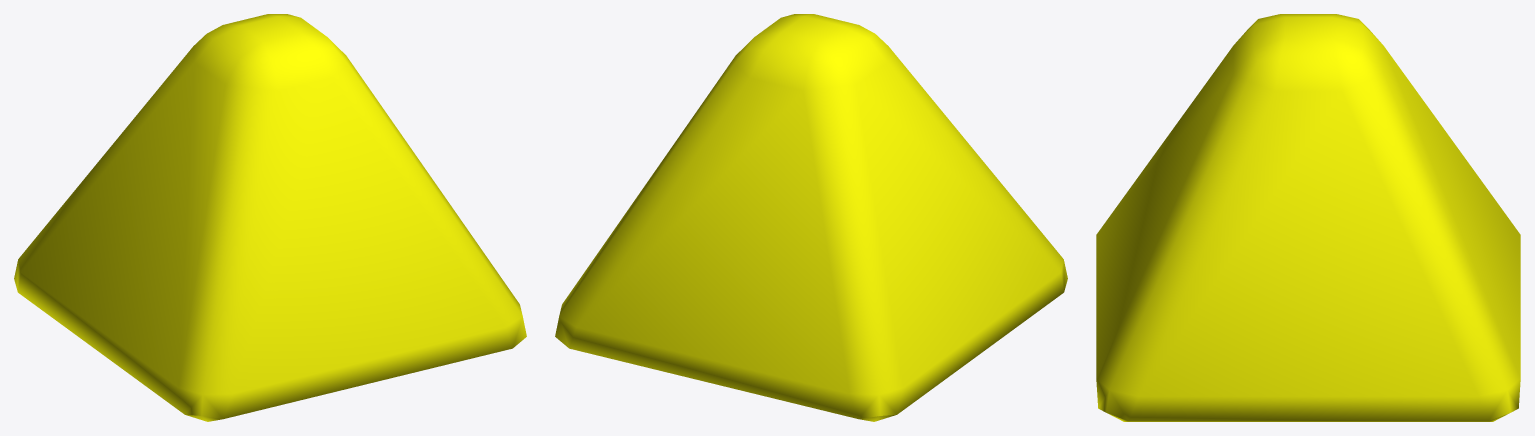
Rendered from kaykit-bush-4-c-color-1.glb.
3 renders of one model, left to right at view 1: azimuth 30°, elevation 25°; view 2: azimuth 150°, elevation 25°; view 3: azimuth 270°, elevation 25°, orthographic. The views are drawn at different scales.
Parts seen in each view (by area): view 1: Bush_4_C_Color1; view 2: Bush_4_C_Color1; view 3: Bush_4_C_Color1.
Part boxes in pixels (left/top/right/bottom): Bush_4_C_Color1: left=14, top=14, right=526, bottom=421; Bush_4_C_Color1: left=555, top=14, right=1067, bottom=421; Bush_4_C_Color1: left=1096, top=14, right=1520, bottom=421.
Size of the model in its own units: 1.58 by 1.3 by 1.58.
